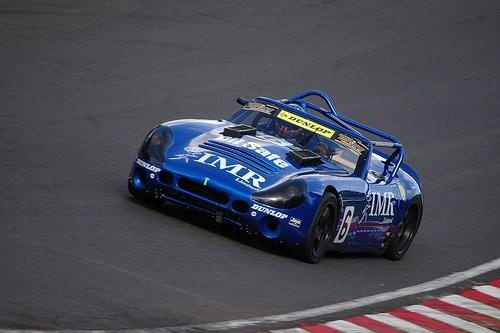car: (128, 90, 426, 266)
